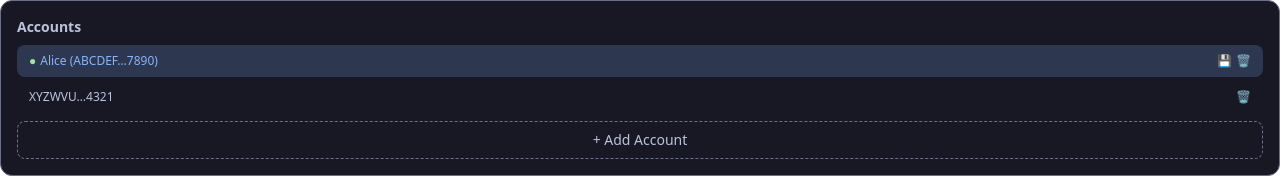
Test: AccountSwitcher › cancels delete confirmation on No click
Step 1. Click the 1st button titled "Delete account" → click(1244, 61), box x1=1236 y1=53 x2=1251 y2=69
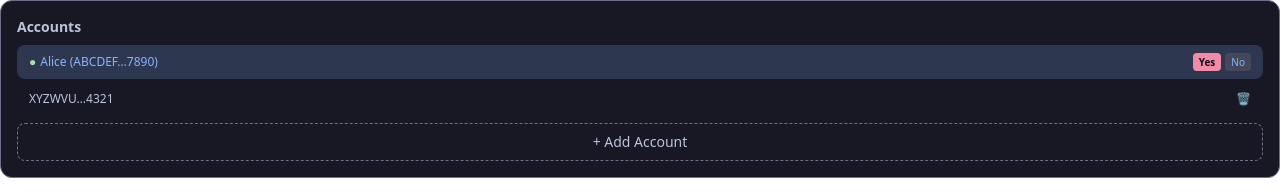
Step 2. Click the button "No" → click(1238, 62), box x1=1225 y1=53 x2=1251 y2=71
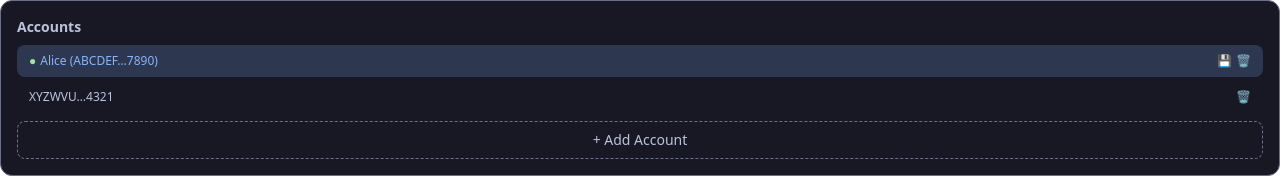
Check: the button "Yes" is gone
